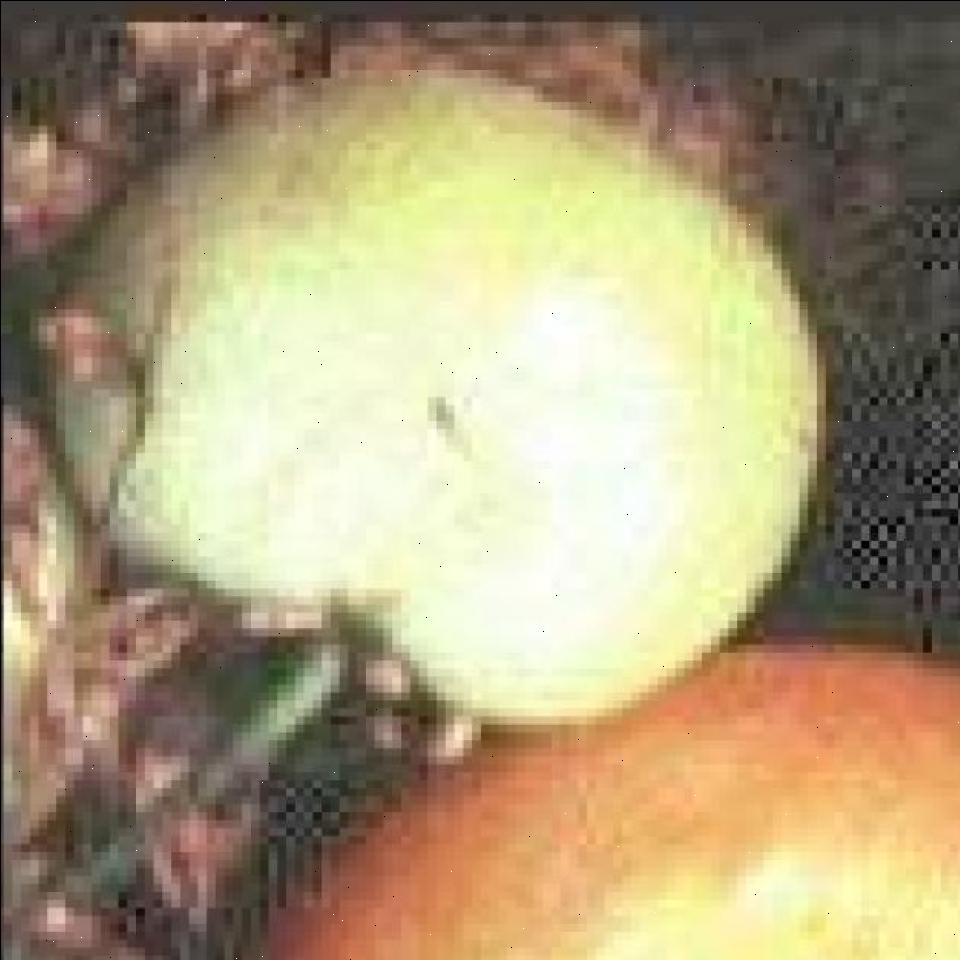Sunscald: (148, 185, 714, 688), (435, 811, 957, 960)
